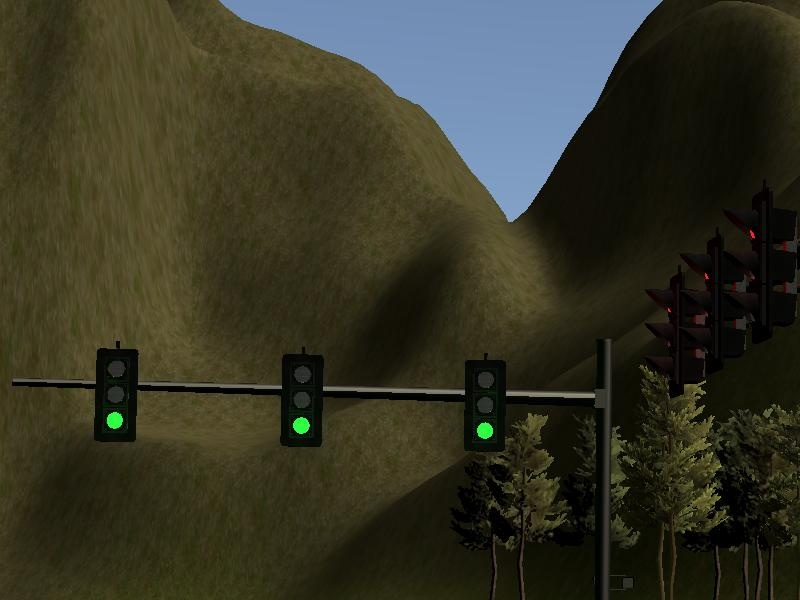GREEN: (279, 351, 325, 447), (93, 348, 137, 440), (463, 359, 507, 451)
